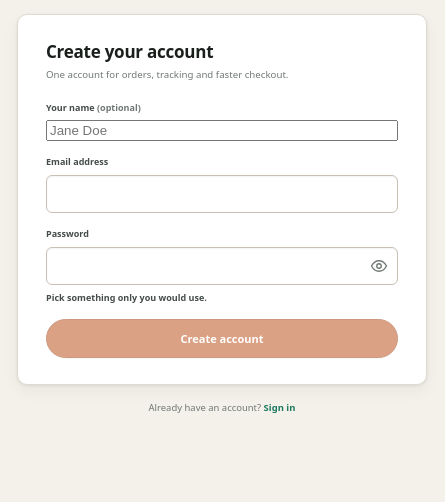
Test case: RegisterPage › ticks each requirement off as it is satisfied
The image size is (445, 502).
Type "abc" into the password field labelled "Password" at (222, 266), box [46,247,398,285]
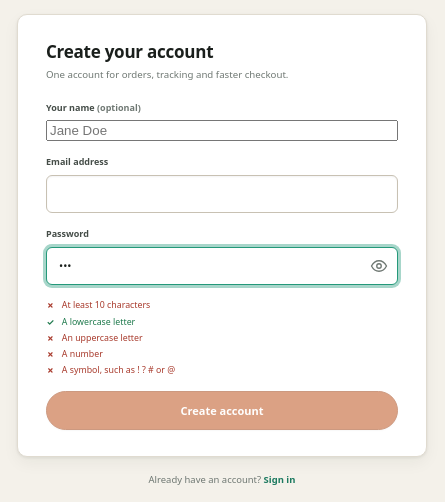
Type "Str0ng!Passw0rd" into the password field labelled "Password" at (222, 266), box [46,247,398,285]
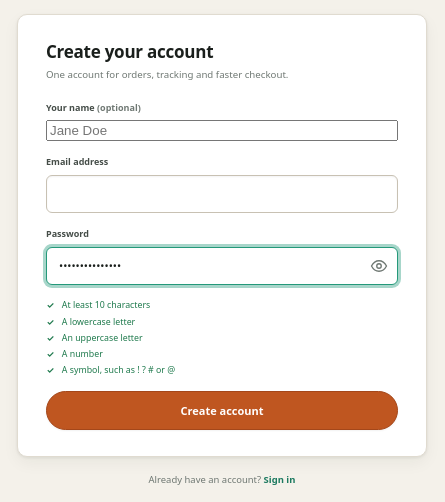
Check: the number of list items is 5, box [45,299,150,318]; [45,316,135,334]; [45,332,143,350]; [45,348,103,366]; [45,364,175,382]
